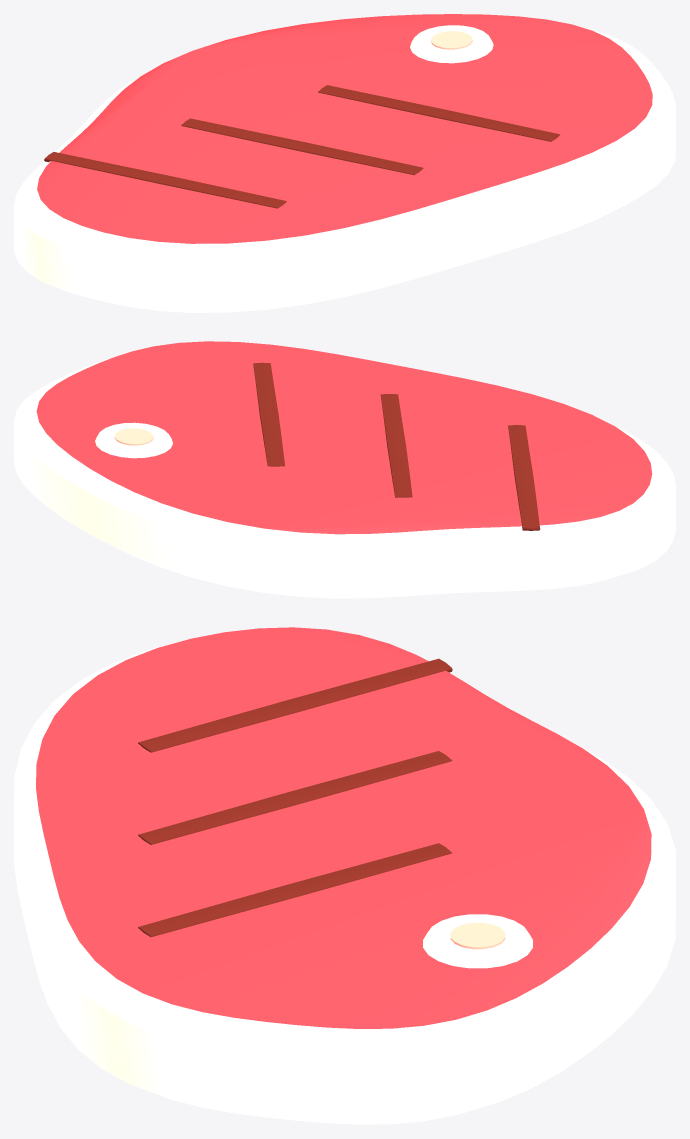
The picture shows the model from 3 angles, top to bottom: view 1: azimuth 30°, elevation 25°; view 2: azimuth 150°, elevation 25°; view 3: azimuth 270°, elevation 25°; orthographic projection. The views are drawn at different scales.
Parts seen in each view (by area): view 1: Steak-whole; view 2: Steak-whole; view 3: Steak-whole.
Part boxes in pixels (<box>): Steak-whole: <box>14,14,675,312</box>; Steak-whole: <box>14,341,675,598</box>; Steak-whole: <box>14,627,675,1124</box>.
Bounding box in the file's own units: 0.0604 × 0.00681 × 0.0391.
